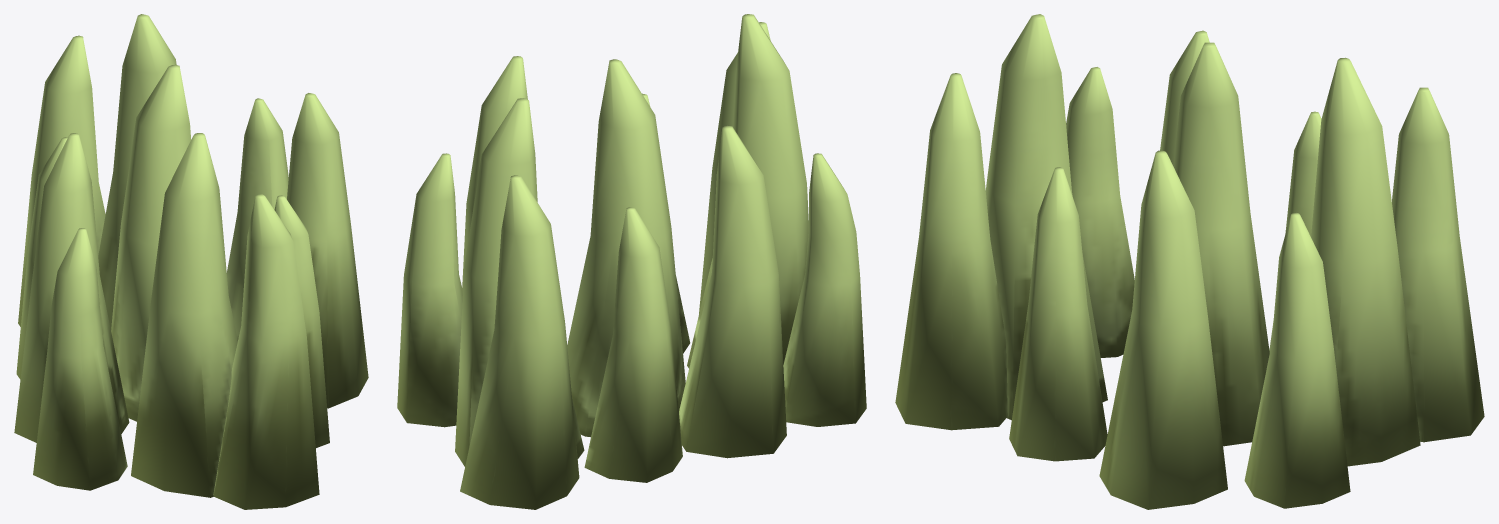
File: GramaCurta.fbx
The picture shows the model from 3 angles, left to right: view 1: azimuth 30°, elevation 25°; view 2: azimuth 150°, elevation 25°; view 3: azimuth 270°, elevation 25°; orthographic projection. The views are drawn at different scales.
Parts seen in each view (by area): view 1: Short Grass; view 2: Short Grass; view 3: Short Grass.
Boxes of the visible parts, bbox=[...] form: Short Grass: bbox=[14, 14, 368, 509]; Short Grass: bbox=[397, 14, 866, 509]; Short Grass: bbox=[895, 14, 1484, 509].
Bounding box in the file's own units: 121 × 110 × 156.
